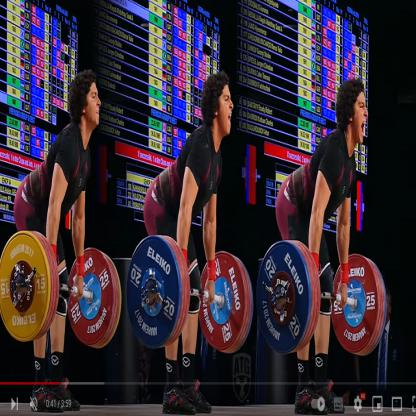Barbell: (124, 229, 186, 354), (255, 234, 313, 363), (0, 223, 53, 346)
